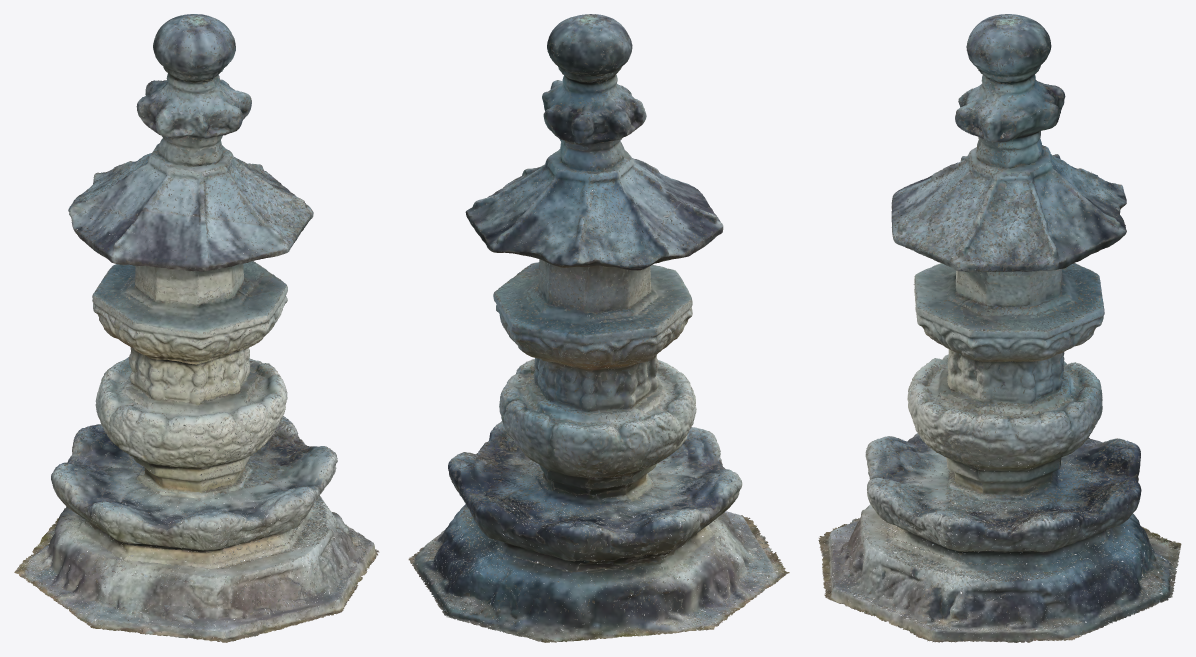
File: stupa.glb
3 renders of one model, left to right at view 1: azimuth 30°, elevation 25°; view 2: azimuth 150°, elevation 25°; view 3: azimuth 270°, elevation 25°, orthographic. The views are drawn at different scales.
Visible parts, largest first — view 1: Stereo textured mesh, Stereo textured mesh_Material0_0.002, Stereo textured mesh_Material0_0.001, Stereo textured mesh_Material0_0.003, Stereo textured mesh_Material0_0.004, Stereo textured mesh_Material0_0.005; view 2: Stereo textured mesh, Stereo textured mesh_Material0_0.001, Stereo textured mesh_Material0_0.002, Stereo textured mesh_Material0_0.003, Stereo textured mesh_Material0_0.004, Stereo textured mesh_Material0_0.005; view 3: Stereo textured mesh_Material0_0.001, Stereo textured mesh, Stereo textured mesh_Material0_0.002, Stereo textured mesh_Material0_0.003, Stereo textured mesh_Material0_0.004, Stereo textured mesh_Material0_0.005.
Part boxes in pixels (x1,y1,x2,y2): Stereo textured mesh: (24,14,376,629); Stereo textured mesh_Material0_0.002: (15,16,375,641); Stereo textured mesh_Material0_0.001: (17,14,367,642); Stereo textured mesh_Material0_0.003: (14,15,377,641); Stereo textured mesh_Material0_0.004: (14,14,379,642); Stereo textured mesh_Material0_0.005: (16,14,377,641); Stereo textured mesh: (424,14,769,641); Stereo textured mesh_Material0_0.001: (415,15,780,641); Stereo textured mesh_Material0_0.002: (412,14,788,642); Stereo textured mesh_Material0_0.003: (410,14,785,642); Stereo textured mesh_Material0_0.004: (408,14,787,641); Stereo textured mesh_Material0_0.005: (409,14,789,641); Stereo textured mesh_Material0_0.001: (819,14,1178,642); Stereo textured mesh: (831,21,1179,641); Stereo textured mesh_Material0_0.002: (818,14,1181,641); Stereo textured mesh_Material0_0.003: (819,14,1180,642); Stereo textured mesh_Material0_0.004: (818,14,1180,642); Stereo textured mesh_Material0_0.005: (820,14,1180,642).
Bounding box in the file's own units: 3.12 × 5.4 × 3.23.
1 material, 1 textured.
